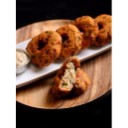vada: (26, 29, 61, 68), (75, 16, 98, 50), (55, 26, 81, 55), (95, 13, 112, 46)
